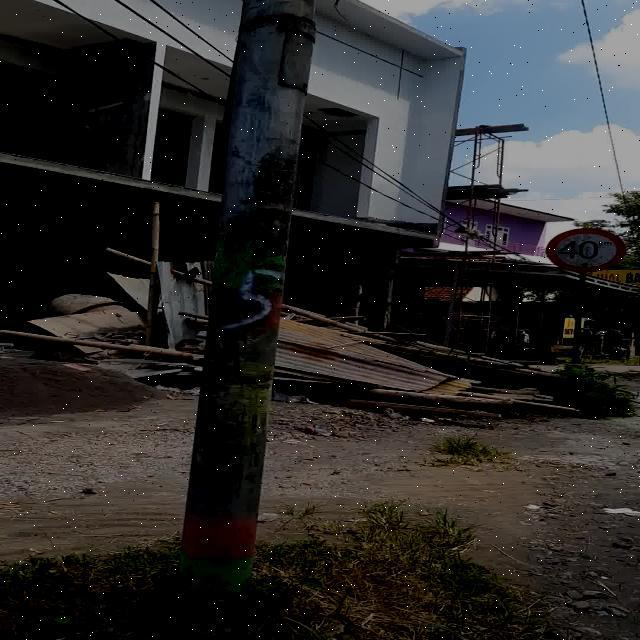Kecepatan Maks. 40 km: (545, 228, 626, 272)
